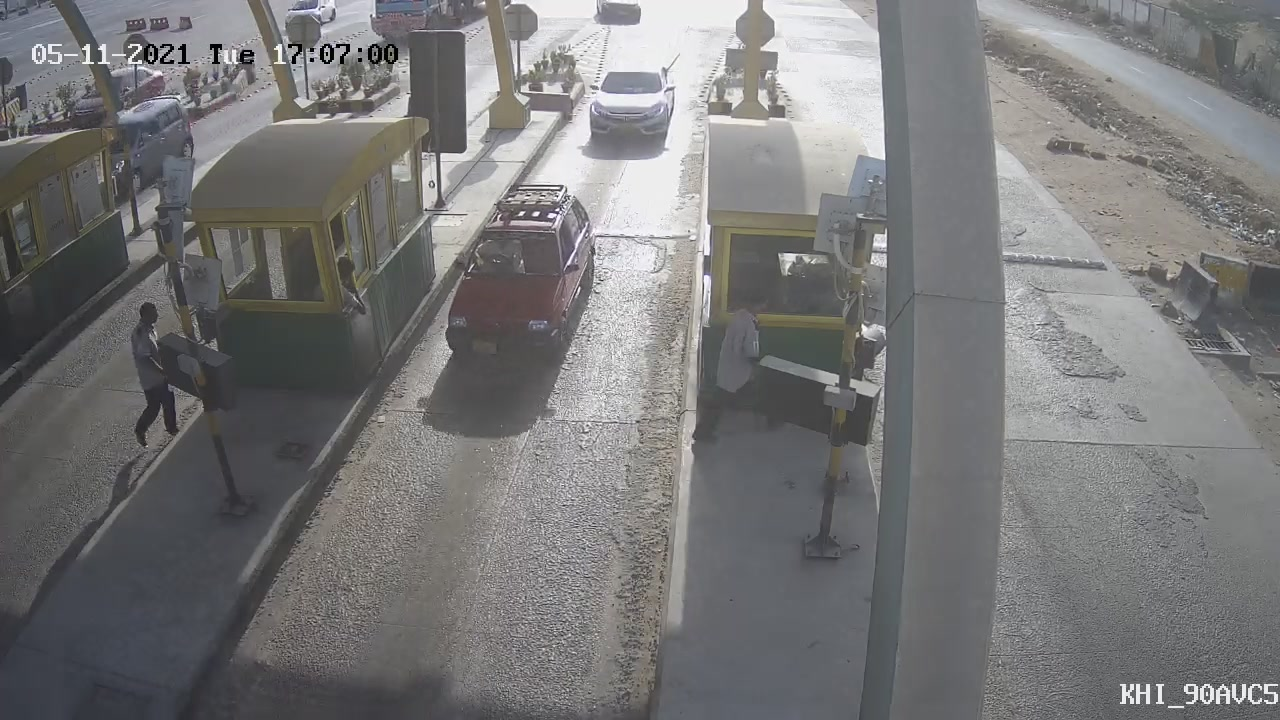F1: (422, 166, 620, 400), (572, 53, 691, 159)
